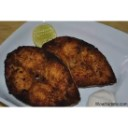seerfish: (4, 46, 80, 107), (43, 36, 118, 86)
